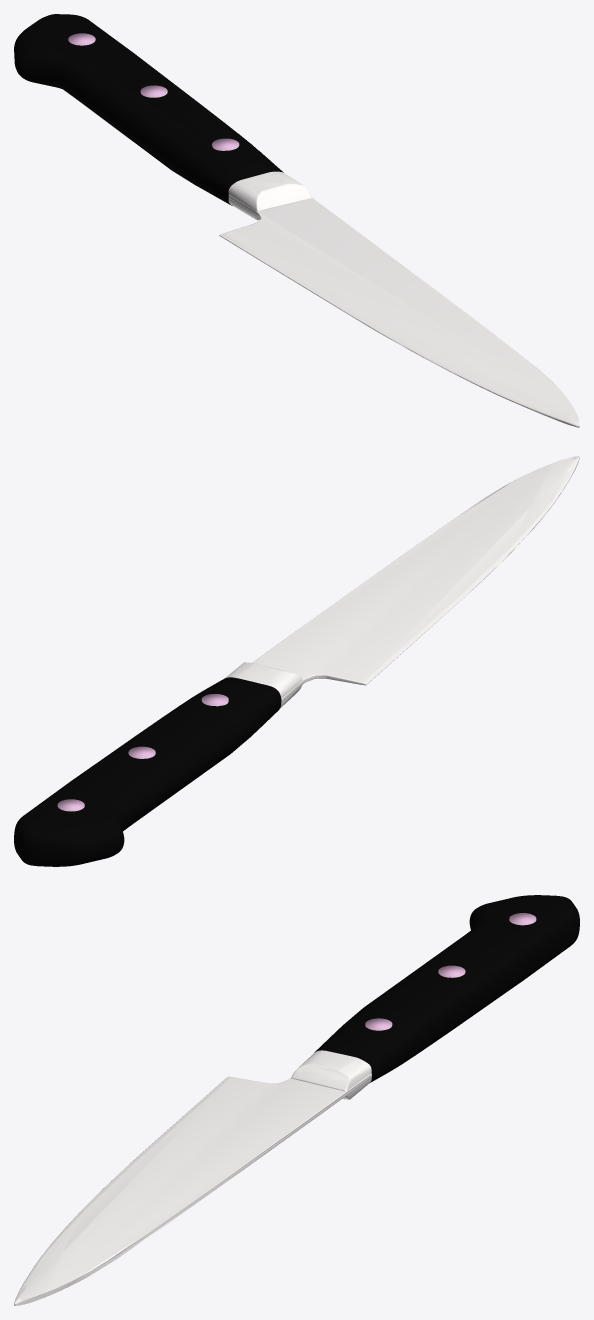
File: Knife.fbx
3 views of the same model, one above another, from view 1: azimuth 30°, elevation 25°; view 2: azimuth 150°, elevation 25°; view 3: azimuth 330°, elevation 25° (orthographic).
Parts seen in each view (by area): view 1: Knife; view 2: Knife; view 3: Knife.
Boxes of the visible parts, x1,y1,x2,y2 form: Knife: (14,14,579,427); Knife: (14,456,579,866); Knife: (14,895,579,1305).
Bounding box in the file's own units: 4.05 × 1.33 × 34.33.
